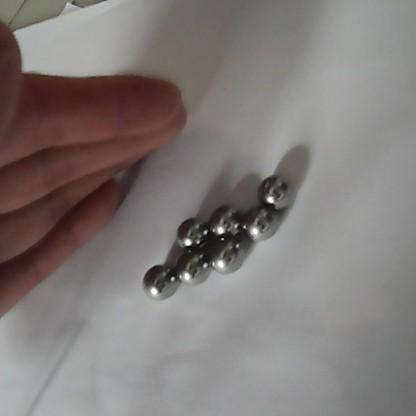ironball: (137, 260, 179, 299), (240, 201, 278, 242), (209, 201, 247, 242), (209, 237, 247, 277), (172, 247, 212, 285), (255, 171, 292, 207), (174, 214, 211, 248)
